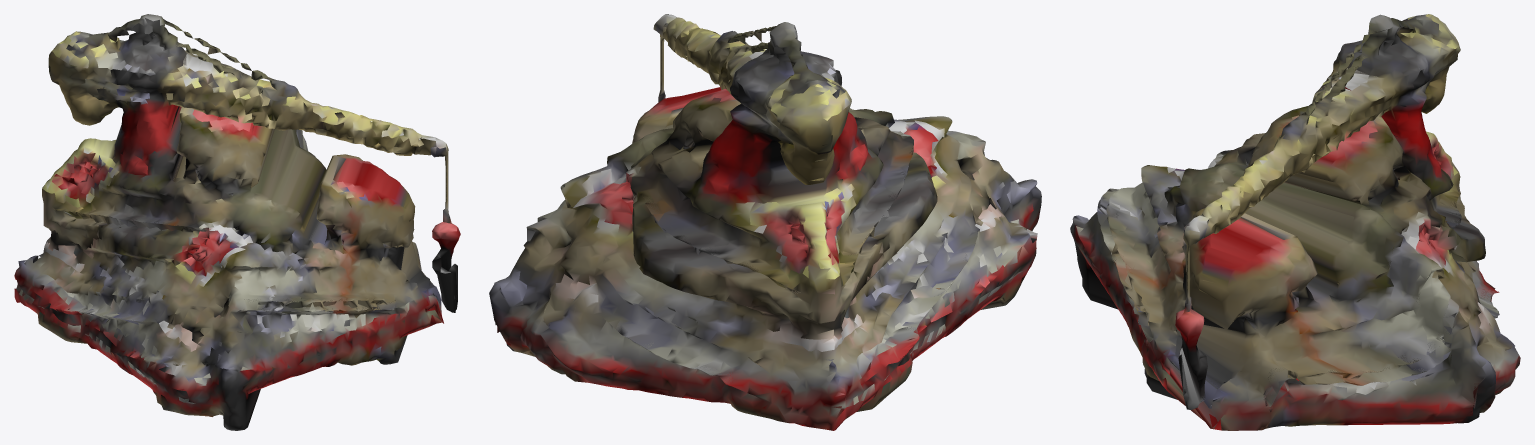
Rendered from soviet_naval_shipyard.glb.
3 renders of one model, left to right at view 1: azimuth 30°, elevation 25°; view 2: azimuth 150°, elevation 25°; view 3: azimuth 270°, elevation 25°, orthographic. The views are drawn at different scales.
Parts seen in each view (by area): view 1: soviet_naval_shipyard; view 2: soviet_naval_shipyard; view 3: soviet_naval_shipyard.
Part boxes in pixels (<box>): soviet_naval_shipyard: <box>14,14,460,430</box>; soviet_naval_shipyard: <box>489,14,1041,430</box>; soviet_naval_shipyard: <box>1070,14,1520,430</box>.
Size of what is drawn, in the model's own units: 1.71 by 1.51 by 2.01.
